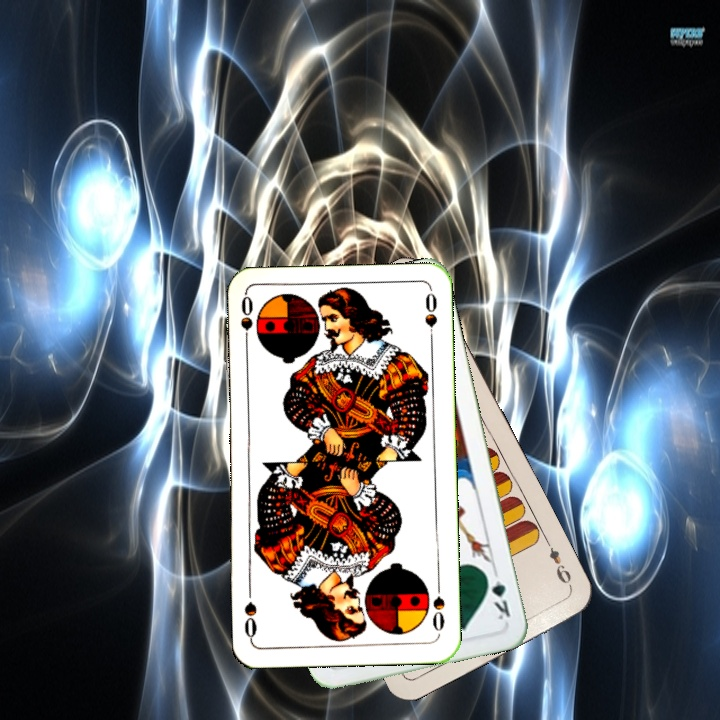E9: (541, 536, 575, 592)
GK: (481, 565, 513, 623)
SO: (236, 293, 256, 352), (428, 578, 447, 637)
